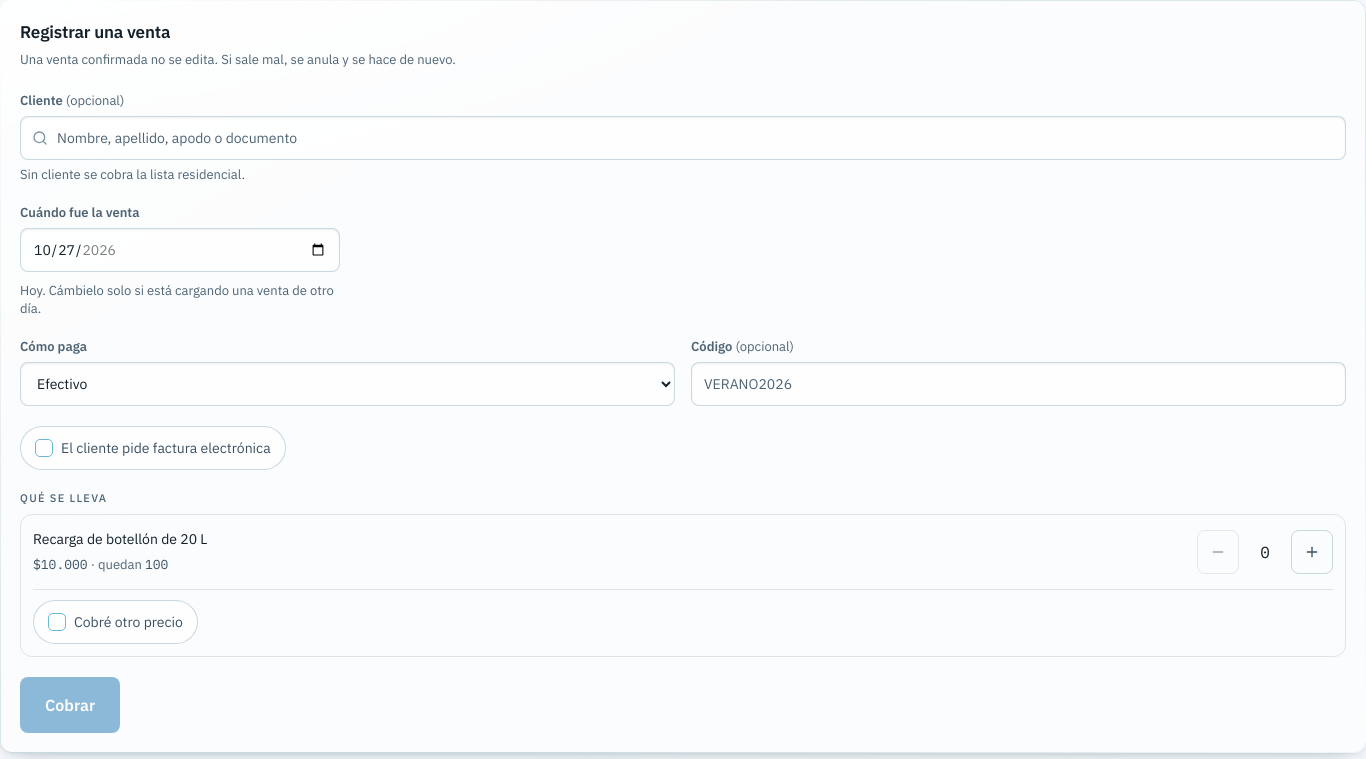
Test: los defaults de los dos campos de botellones siguen al carrito › subir el carrito arrastra los dos números al nuevo total
This screenshot has width=1366, height=759.
Click the button named "Agregar uno de Recarga" at (1312, 552), box [1291,530,1333,574]
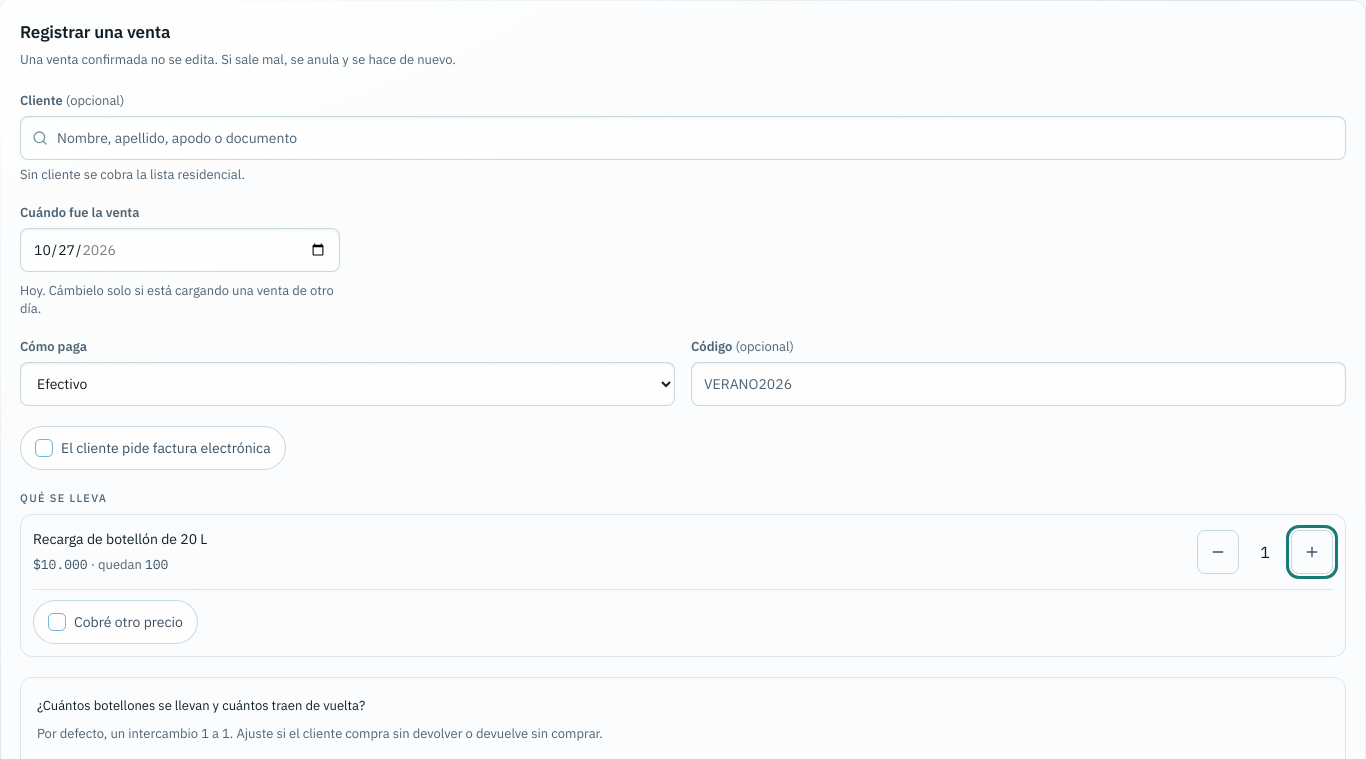
Click the button named "Agregar uno de Recarga" at (1312, 552), box [1291,530,1333,574]
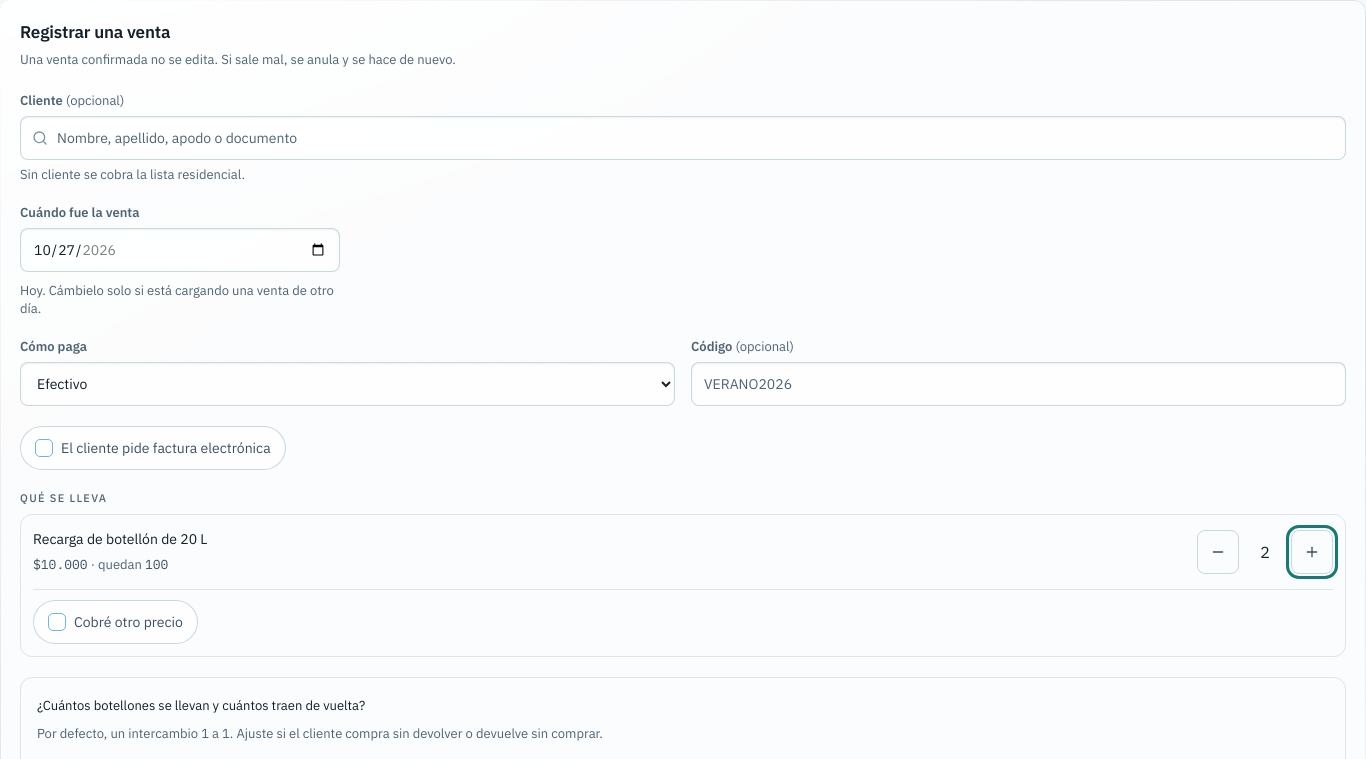
Click the button named "Agregar uno de Recarga" at (1312, 552), box [1291,530,1333,574]
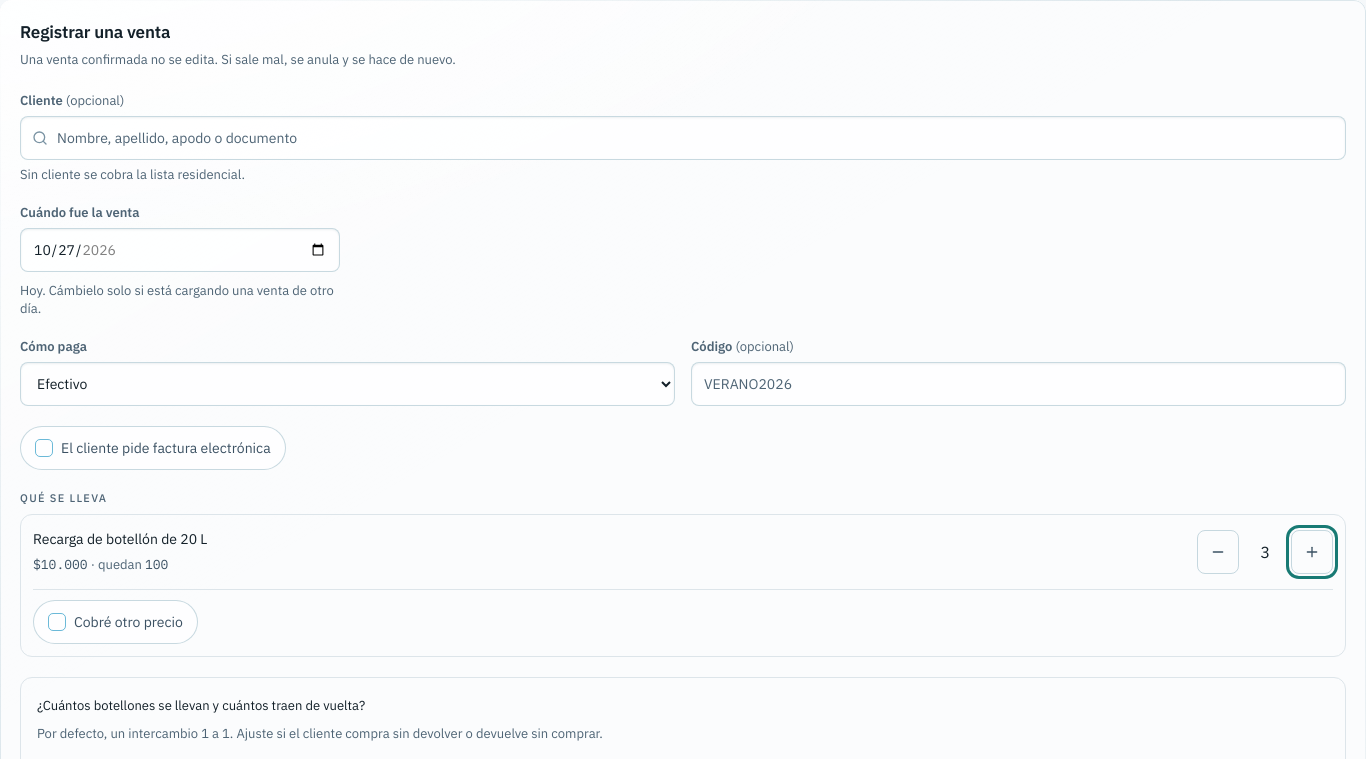
Click the button named "Agregar uno de Recarga" at (1312, 552), box [1291,530,1333,574]
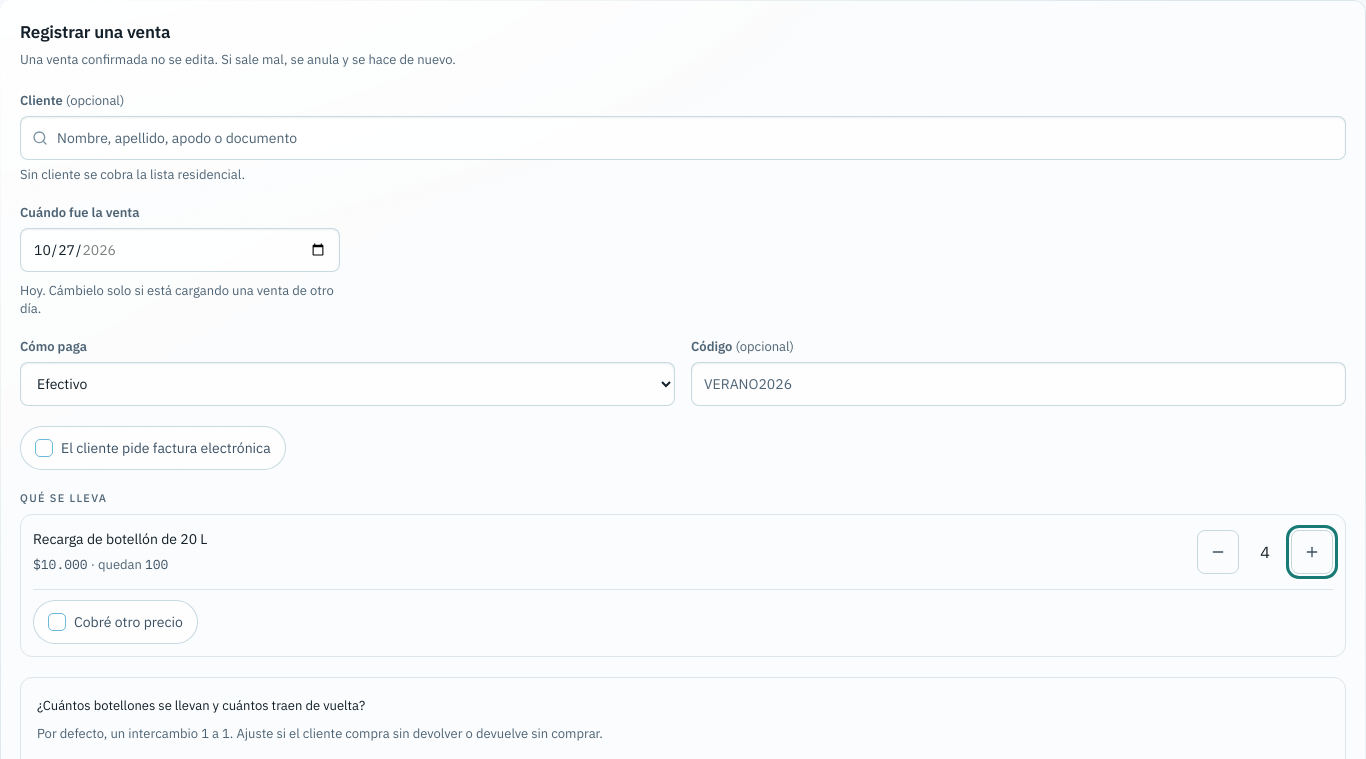
Click the button named "Agregar uno de Recarga" at (1312, 552), box [1291,530,1333,574]
(page scrolled)
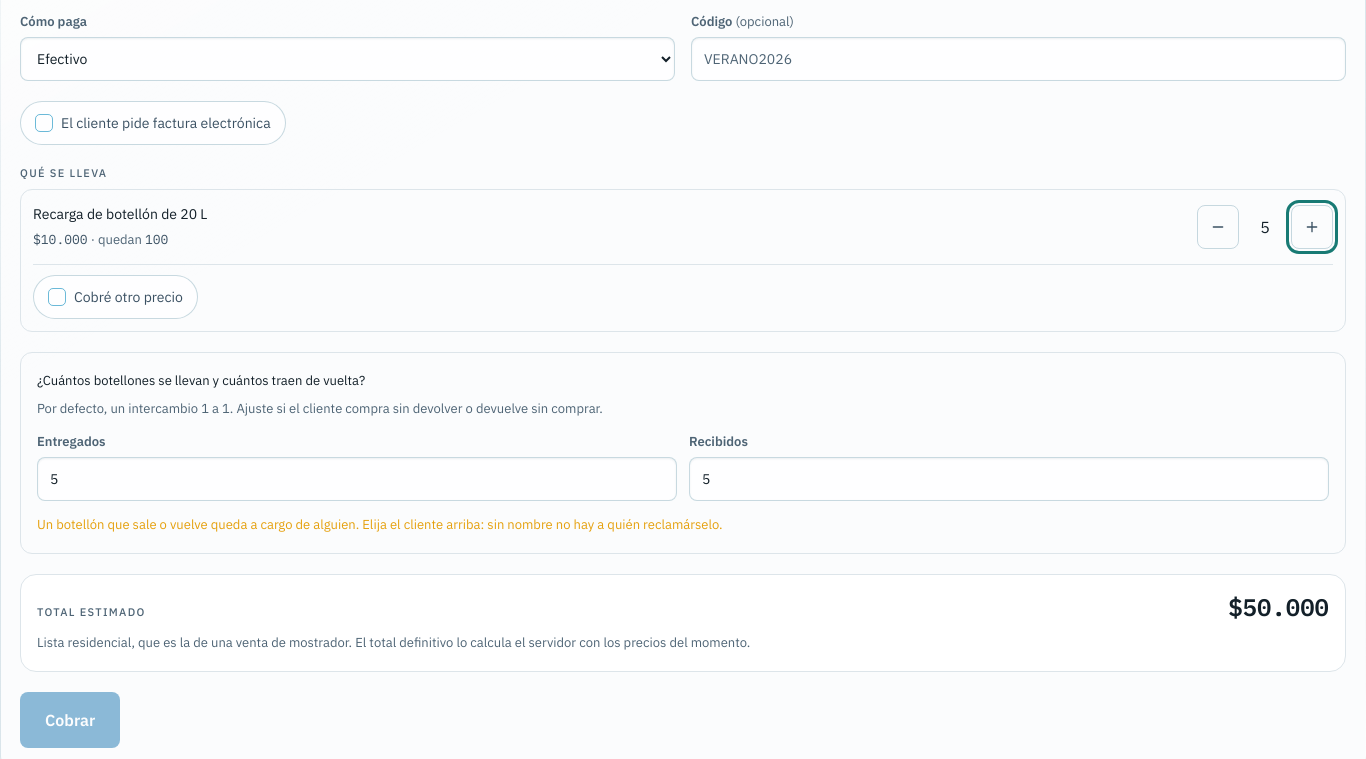
Check: the number field labelled "Entregados" holds "5", box [37,457,677,501]
Check: the number field labelled "Recibidos" holds "5", box [689,457,1329,501]
